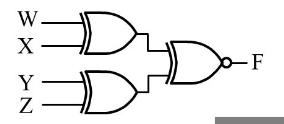xor: (162, 37, 234, 91), (77, 67, 141, 118), (77, 8, 139, 58)
